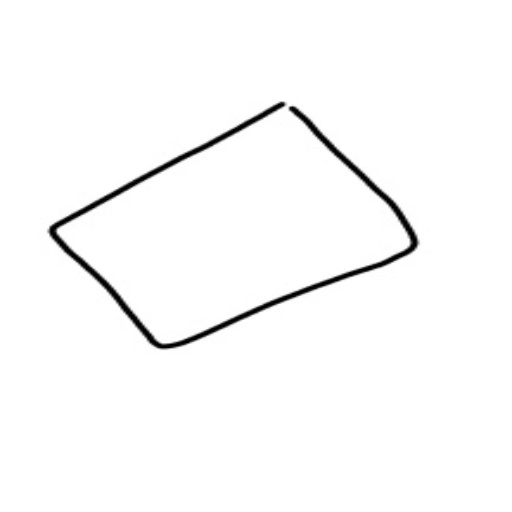square: (40, 92, 423, 374)
